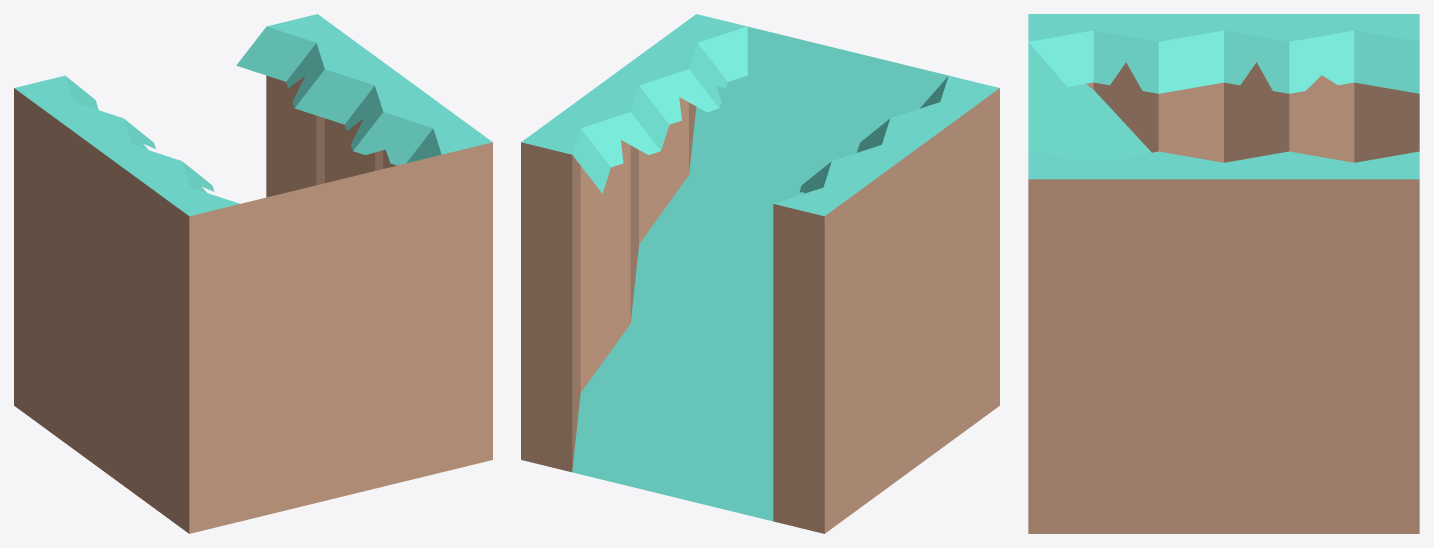
Rendered from cliff_blockSlopeWalls_rock.glb.
The picture shows the model from 3 angles, left to right: view 1: azimuth 30°, elevation 25°; view 2: azimuth 150°, elevation 25°; view 3: azimuth 270°, elevation 25°; orthographic projection. The views are drawn at different scales.
Visible parts, largest first — view 1: cliff_blockSlopeWalls_rock; view 2: cliff_blockSlopeWalls_rock; view 3: cliff_blockSlopeWalls_rock.
Boxes of the visible parts, <box> form: cliff_blockSlopeWalls_rock: <box>14,14,492,533</box>; cliff_blockSlopeWalls_rock: <box>521,14,999,533</box>; cliff_blockSlopeWalls_rock: <box>1028,14,1419,533</box>.
Size of the model in its own units: 1 by 1 by 1.
